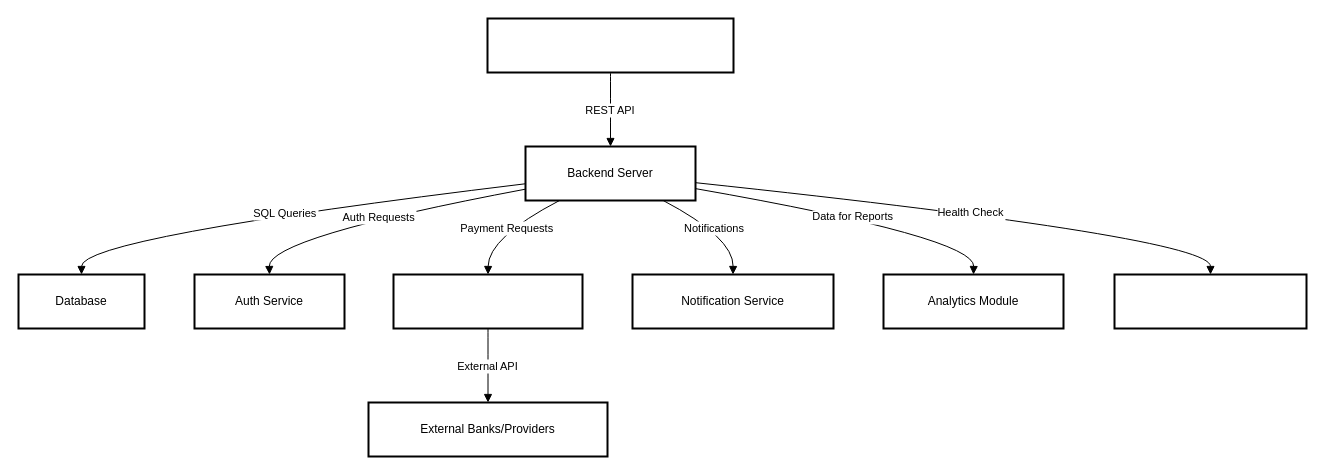
The diagram is 1324 pixels wide and 474 high, and some of its shapes have lost their labels. Each missing label, with the centre of its shape:
"Frontend Web/Mobile App" belongs at (610,45).
"Monitoring Service" belongs at (1210,301).
"Payment Gateway" belongs at (487,301).
